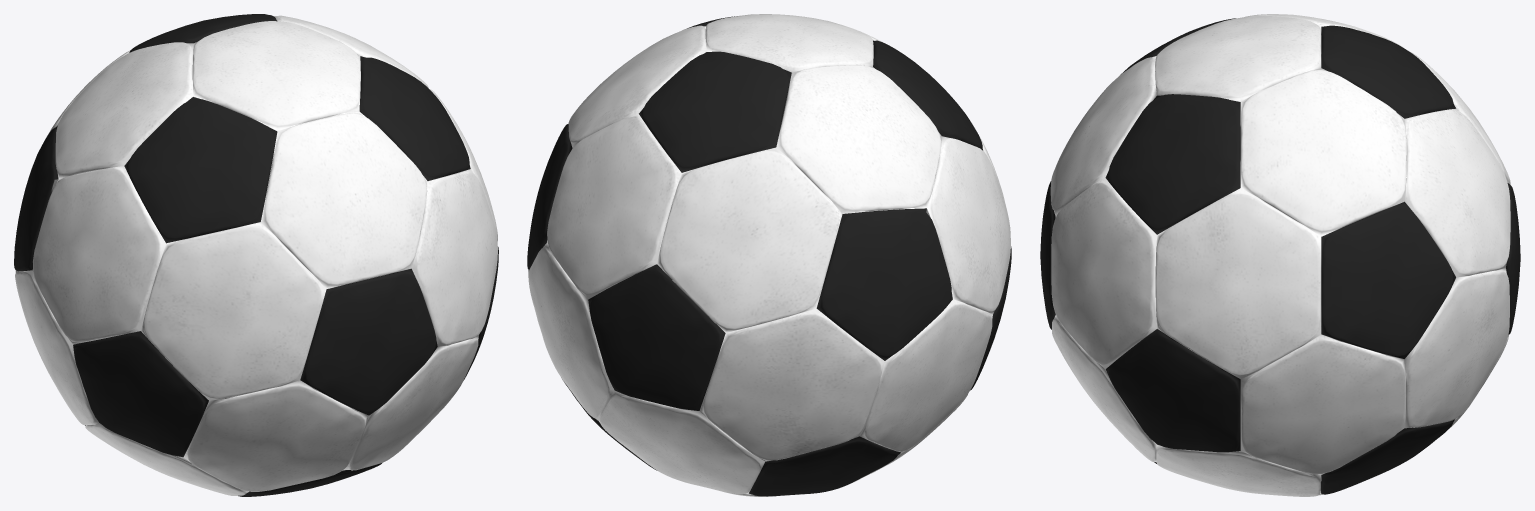
The model's file is SoccerBall.fbx.
3 views of the same model, side by side, from view 1: azimuth 30°, elevation 25°; view 2: azimuth 150°, elevation 25°; view 3: azimuth 270°, elevation 25° (orthographic).
Parts seen in each view (by area): view 1: Platonic; view 2: Platonic; view 3: Platonic.
Boxes of the visible parts, <box> form: Platonic: <box>14,14,498,496</box>; Platonic: <box>527,14,1011,496</box>; Platonic: <box>1040,14,1520,496</box>.
Bounding box in the file's own units: 129 × 128 × 128.
Materials: 1 (1 with a texture image).
